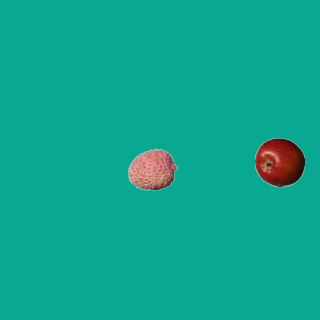Apple Braeburn: (254, 137, 304, 187)
Lychee: (127, 144, 177, 194)
